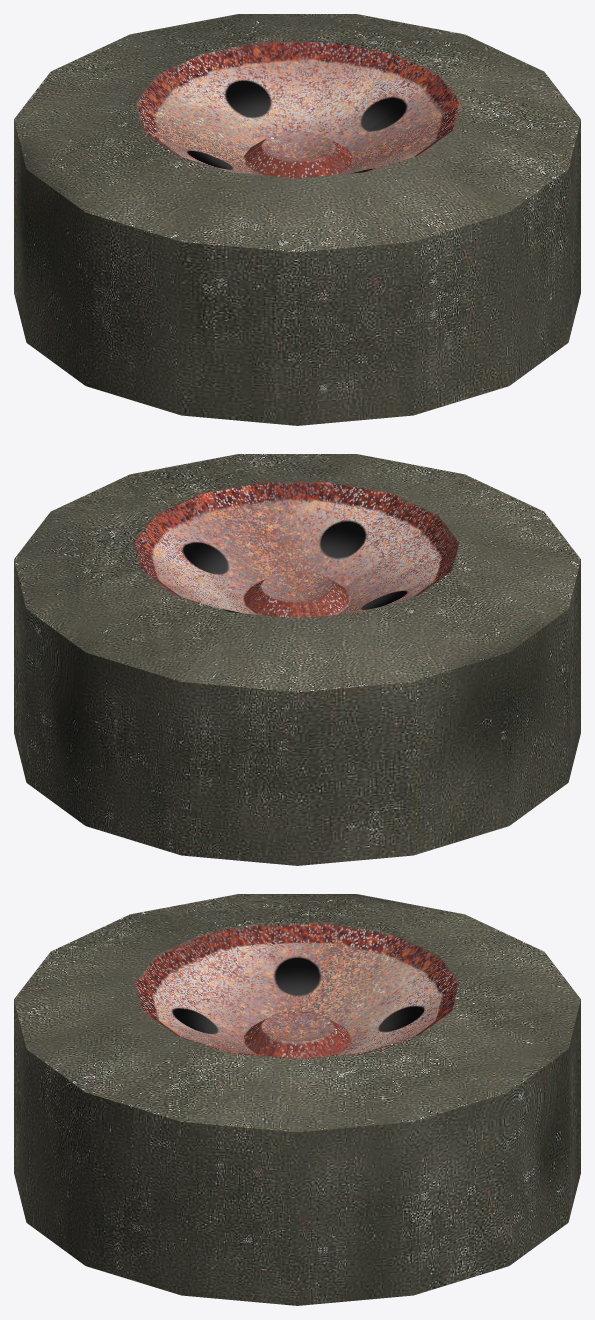
The model's file is Wheel_reduced.FBX.
The picture shows the model from 3 angles, top to bottom: view 1: azimuth 30°, elevation 25°; view 2: azimuth 150°, elevation 25°; view 3: azimuth 270°, elevation 25°; orthographic projection.
Visible parts, largest first — view 1: Cylinder002; view 2: Cylinder002; view 3: Cylinder002.
Boxes of the visible parts, box(x1,y1,x2,y2) form: Cylinder002: box(14, 14, 580, 425); Cylinder002: box(14, 454, 580, 865); Cylinder002: box(14, 894, 580, 1305).
Bounding box in the file's own units: 14.68 × 5.63 × 14.76.
1 material, 1 textured.
